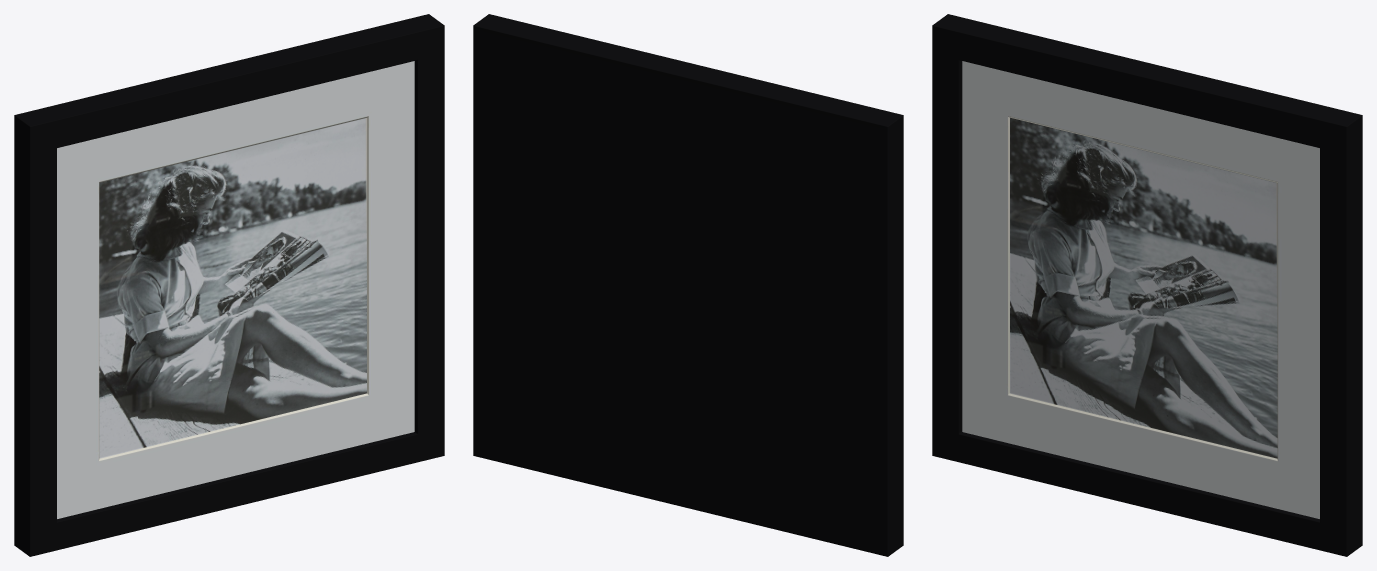
File: picture_frame_B075YLXVDS.glb
The picture shows the model from 3 angles, left to right: view 1: azimuth 30°, elevation 25°; view 2: azimuth 150°, elevation 25°; view 3: azimuth 330°, elevation 25°; orthographic projection.
Visible parts, largest first — view 1: RootNode; view 2: RootNode; view 3: RootNode.
Boxes of the visible parts, bbox=[...] form: RootNode: bbox=[14, 14, 444, 556]; RootNode: bbox=[473, 14, 903, 556]; RootNode: bbox=[932, 14, 1362, 556].
Bounding box in the file's own units: 0.4619 × 0.4579 × 0.0305.
Materials: 1 (1 with a texture image).
